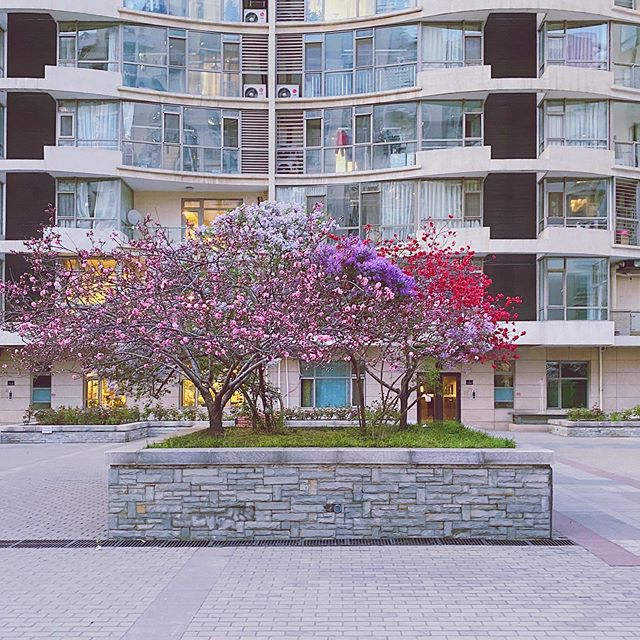building: (1, 1, 619, 413)
tree: (23, 239, 304, 436), (297, 246, 513, 462)
